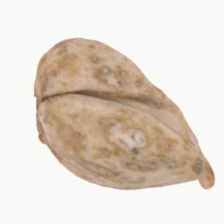L1: (190, 133, 216, 191), (31, 69, 48, 144)
L2: (33, 36, 217, 190)
